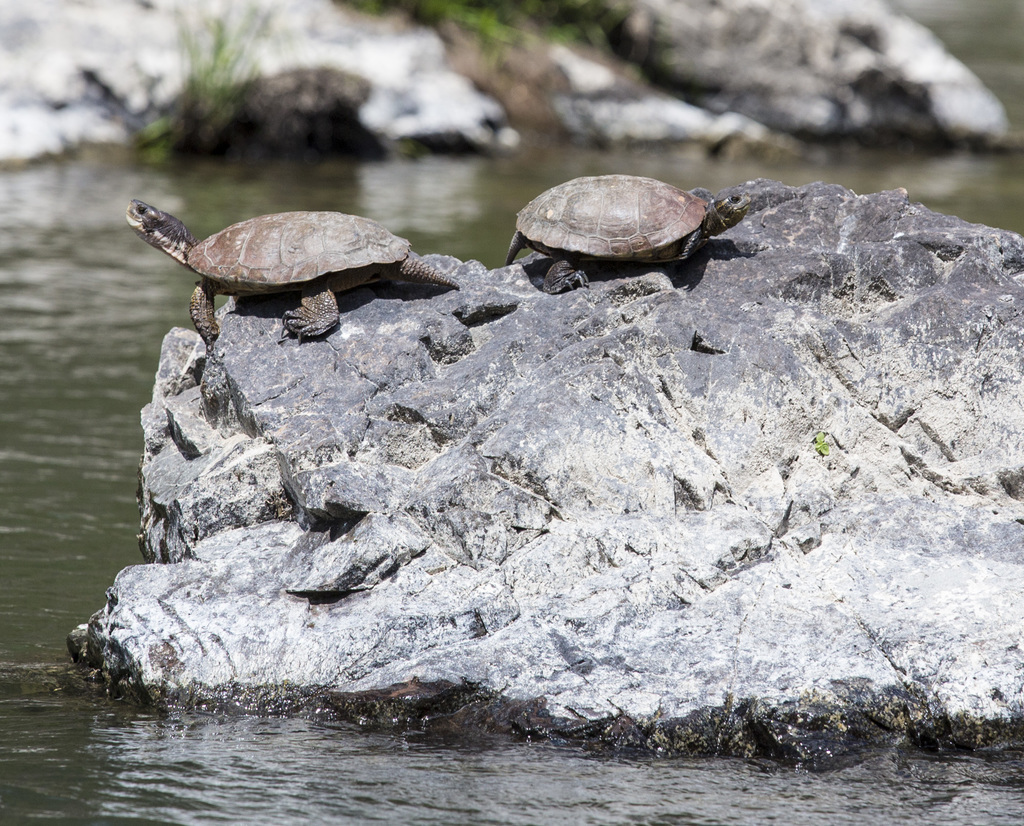Sea turtles: (99, 193, 478, 358), (504, 169, 750, 293)
